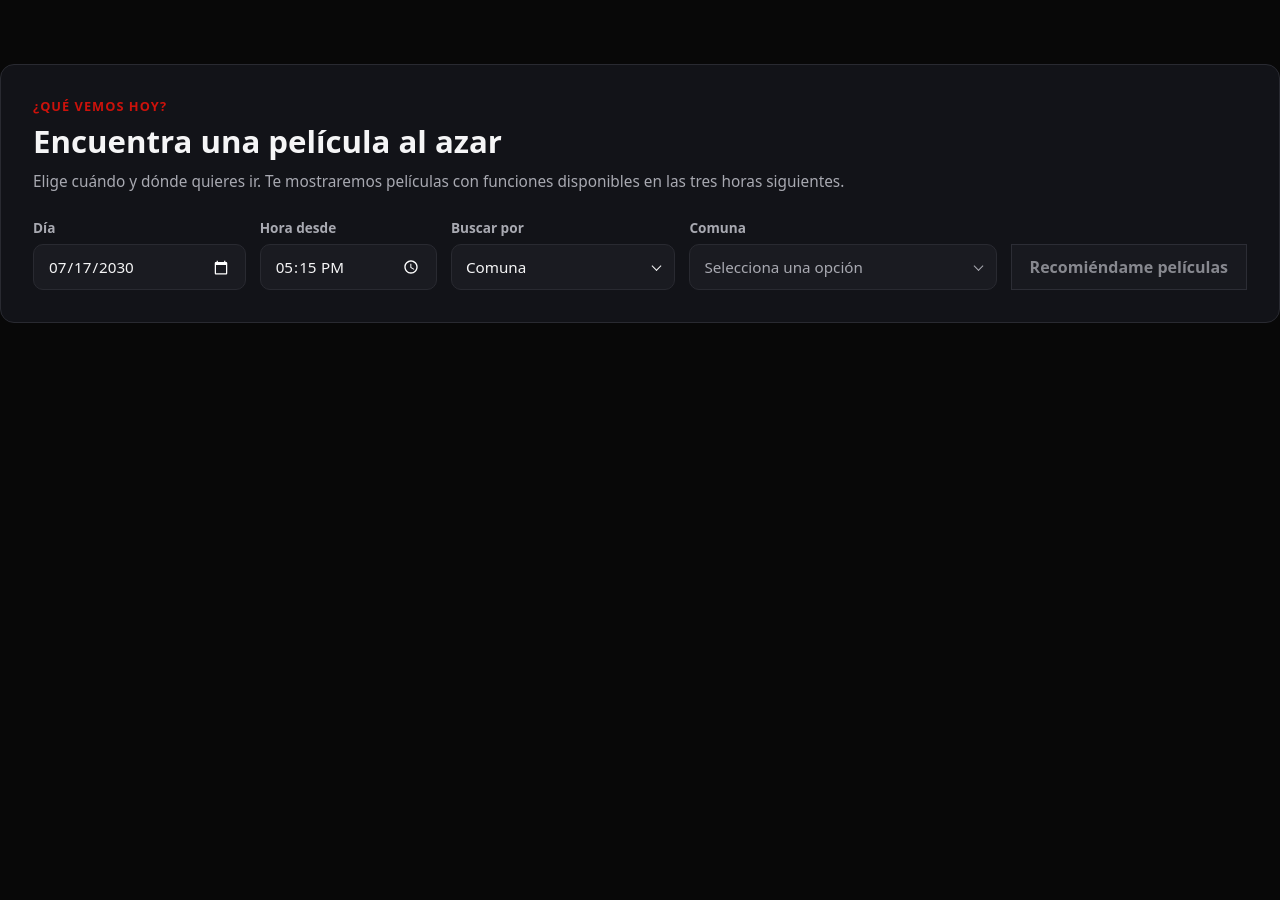
it: RecomendadorPeliculas › avisa cuando la consulta no encuentra funciones
The image size is (1280, 900).
Click the button with aria-label "seleccionar comuna: selecciona una opción": (843, 267) [689,244,997,290]
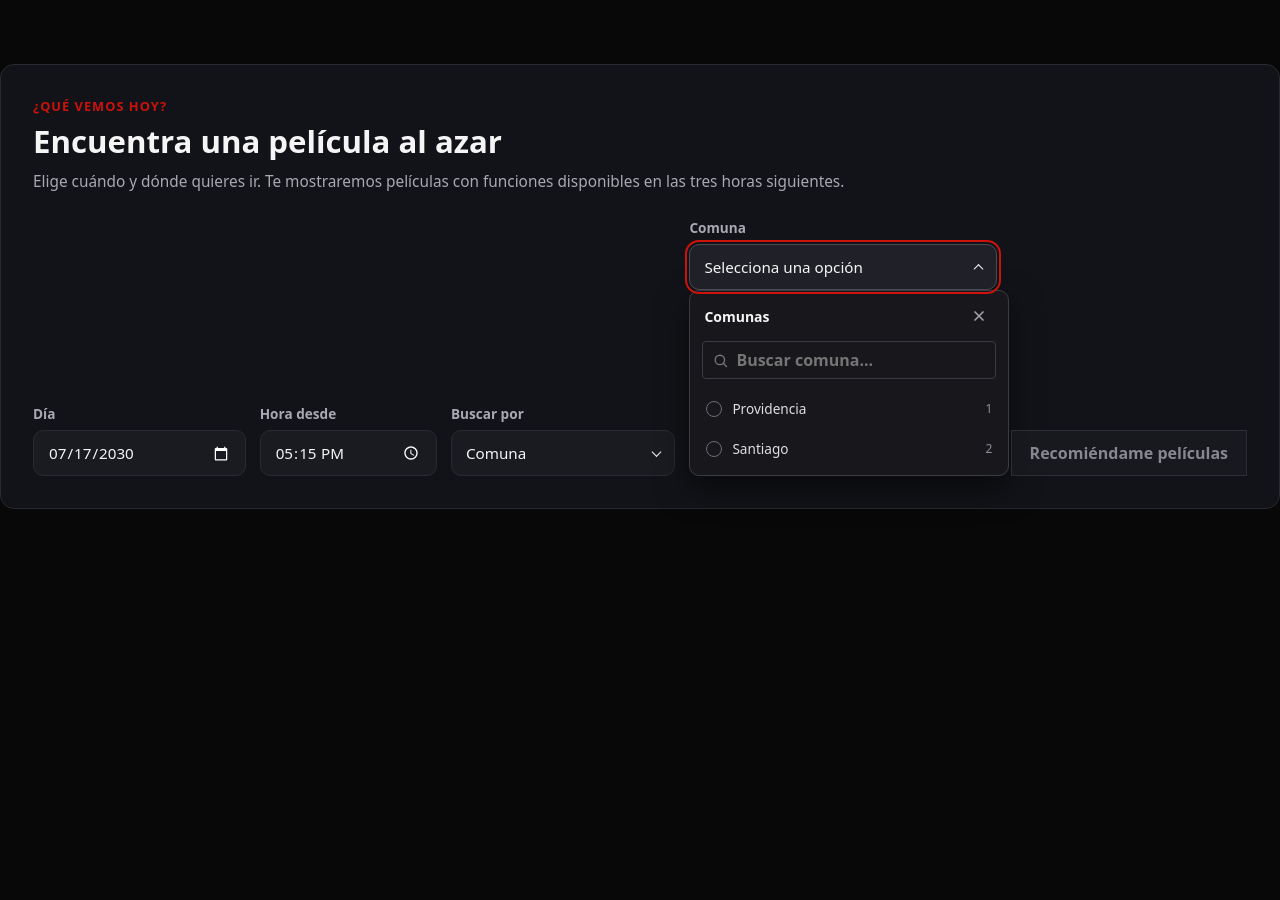
Click the option "Santiago 2": (760, 449) [696,429,1002,469]
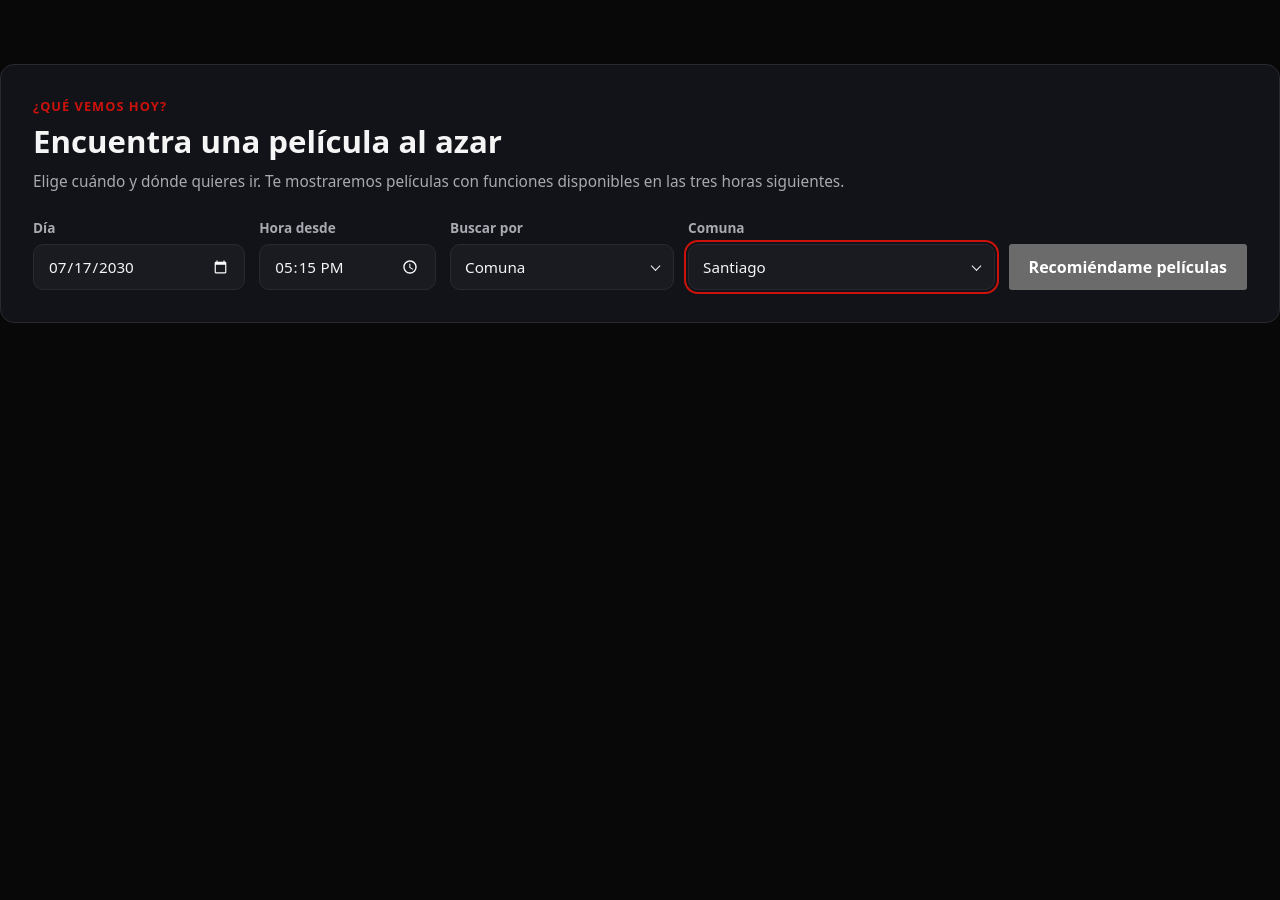
Click the button "Recomiéndame películas": (1128, 267) [1009,244,1247,290]
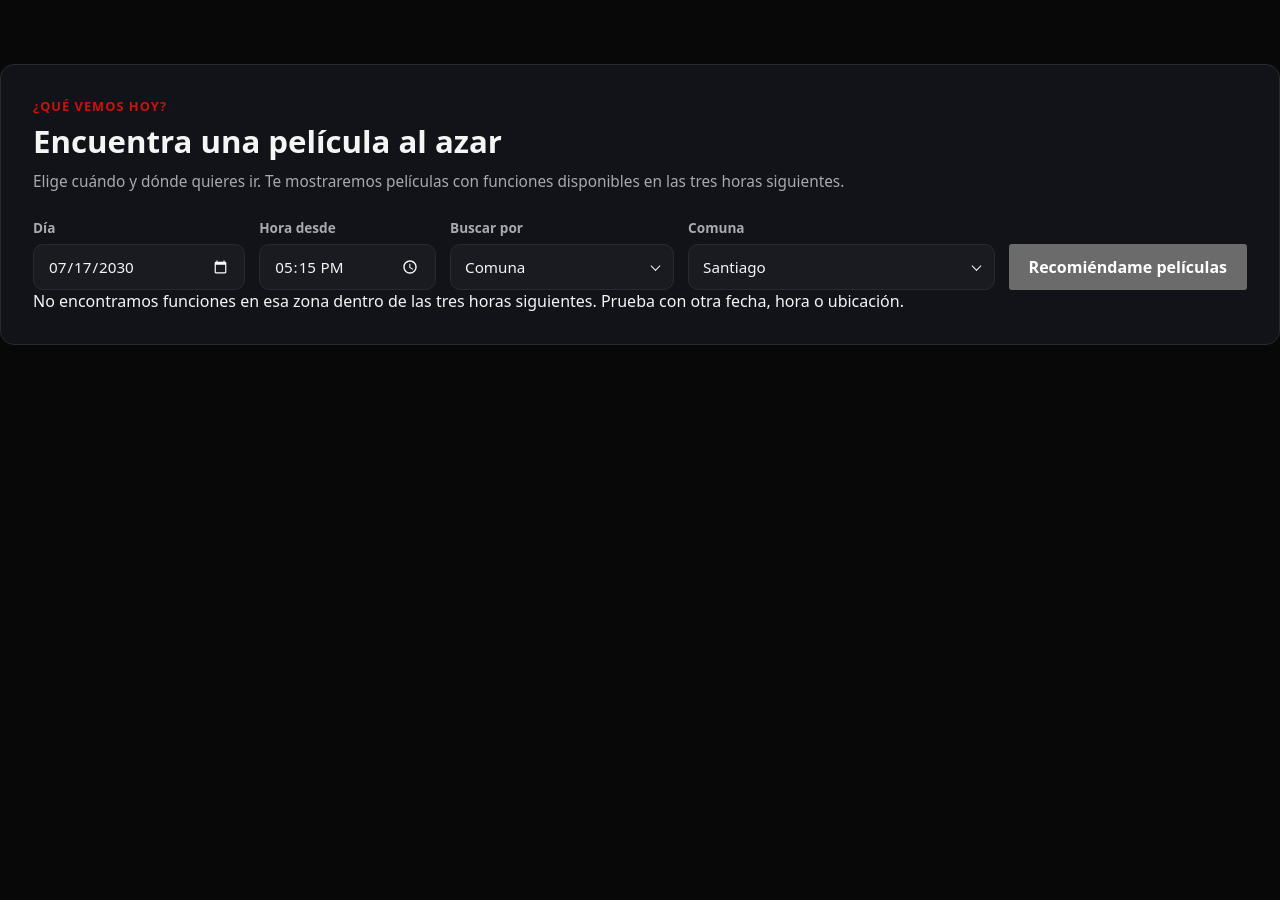
Now the message shows "No encontramos funciones en esa zona dentro de las tres horas siguientes.", box [33,290,904,312]
